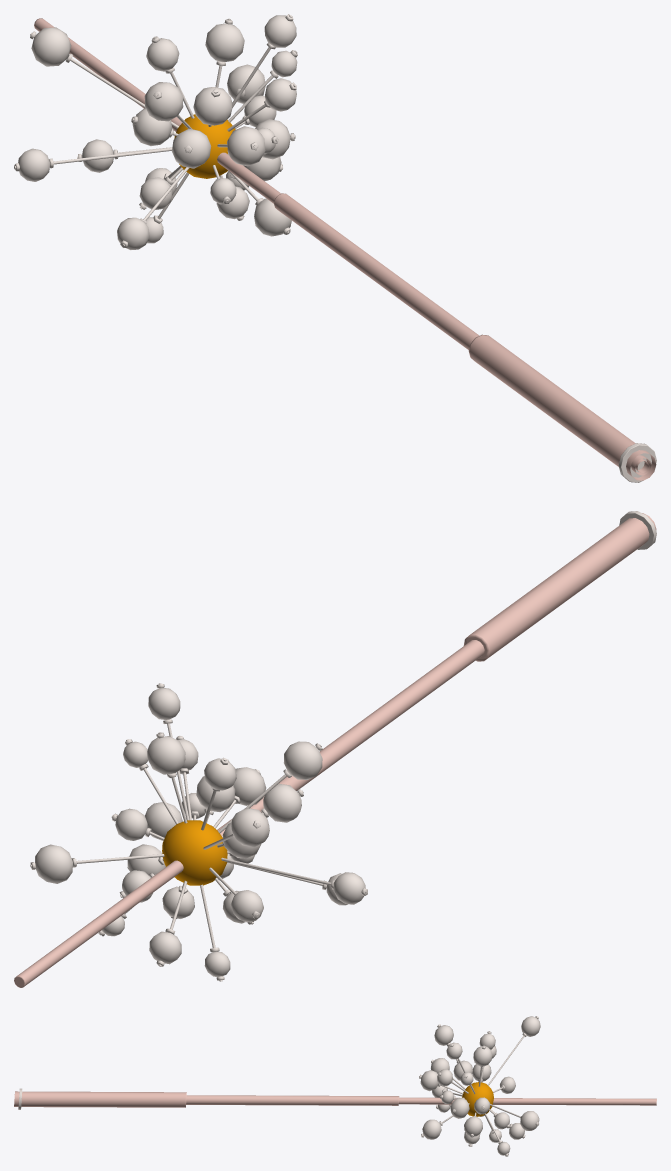
Rendered from branch.011.glb.
3 renders of one model, top to bottom at view 1: azimuth 30°, elevation 25°; view 2: azimuth 150°, elevation 25°; view 3: azimuth 270°, elevation 25°, orthographic. The views are drawn at different scales.
Parts seen in each view (by area): view 1: Glass.01, MET-59_3D-Model.17351, MET-59_3D-Model.17350, MET-59_3D-Model.17349, MET-59_3D-Model.17352; view 2: Glass.01, MET-59_3D-Model.17351, MET-59_3D-Model.17350, MET-59_3D-Model.17349; view 3: MET-59_3D-Model.17351, Glass.01, MET-59_3D-Model.17350, MET-59_3D-Model.17349.
Part boxes in pixels (<box>): Glass.01: <box>18,15,297,250</box>; MET-59_3D-Model.17351: <box>34,18,656,480</box>; MET-59_3D-Model.17350: <box>14,14,297,247</box>; MET-59_3D-Model.17349: <box>174,114,235,178</box>; MET-59_3D-Model.17352: <box>618,443,656,482</box>; Glass.01: <box>35,687,365,976</box>; MET-59_3D-Model.17351: <box>14,513,656,987</box>; MET-59_3D-Model.17350: <box>30,683,367,981</box>; MET-59_3D-Model.17349: <box>162,820,227,885</box>; MET-59_3D-Model.17351: <box>14,1091,656,1107</box>; Glass.01: <box>420,1016,540,1155</box>; MET-59_3D-Model.17350: <box>419,1016,538,1156</box>; MET-59_3D-Model.17349: <box>462,1082,493,1116</box>.
Bounding box in the file's own units: 0.1977 × 0.1556 × 0.7269.
